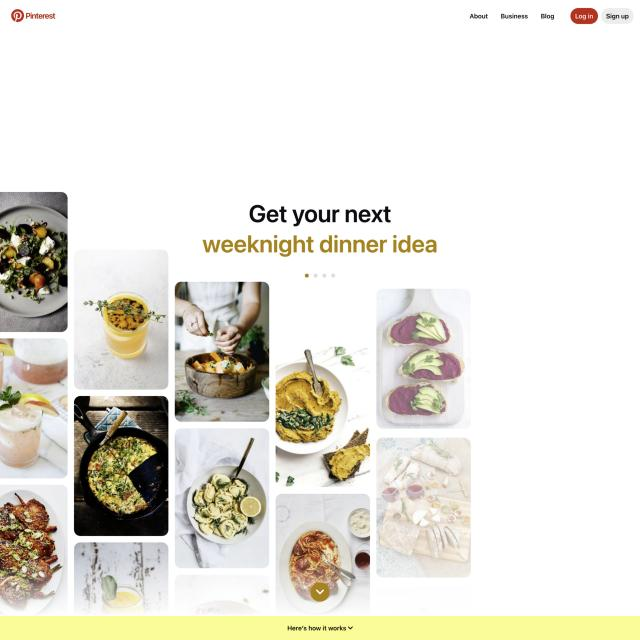logo: (9, 6, 62, 24)
navigation: (464, 6, 562, 25)
